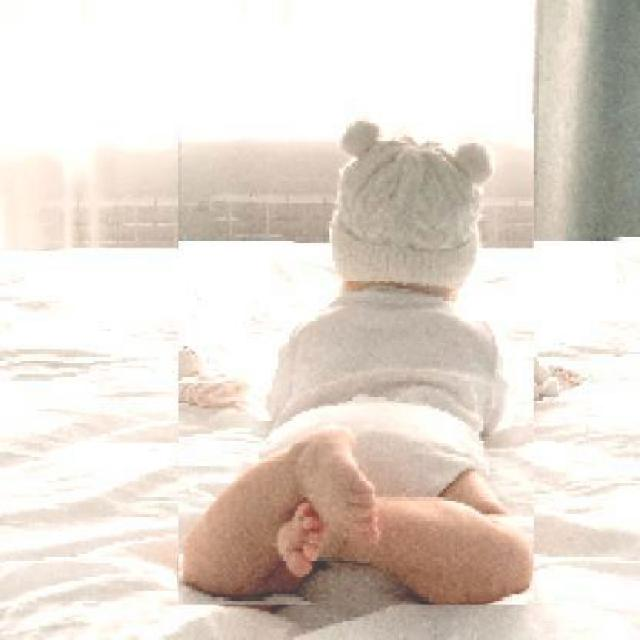child: (176, 114, 533, 606)
